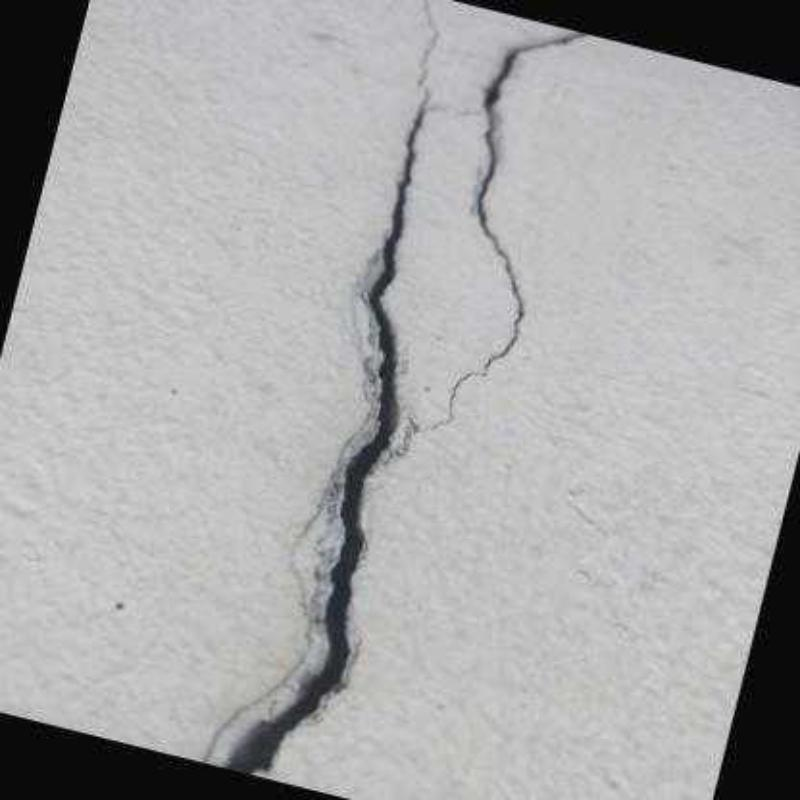pothole: (212, 112, 430, 778), (418, 31, 582, 436), (415, 0, 440, 115)
